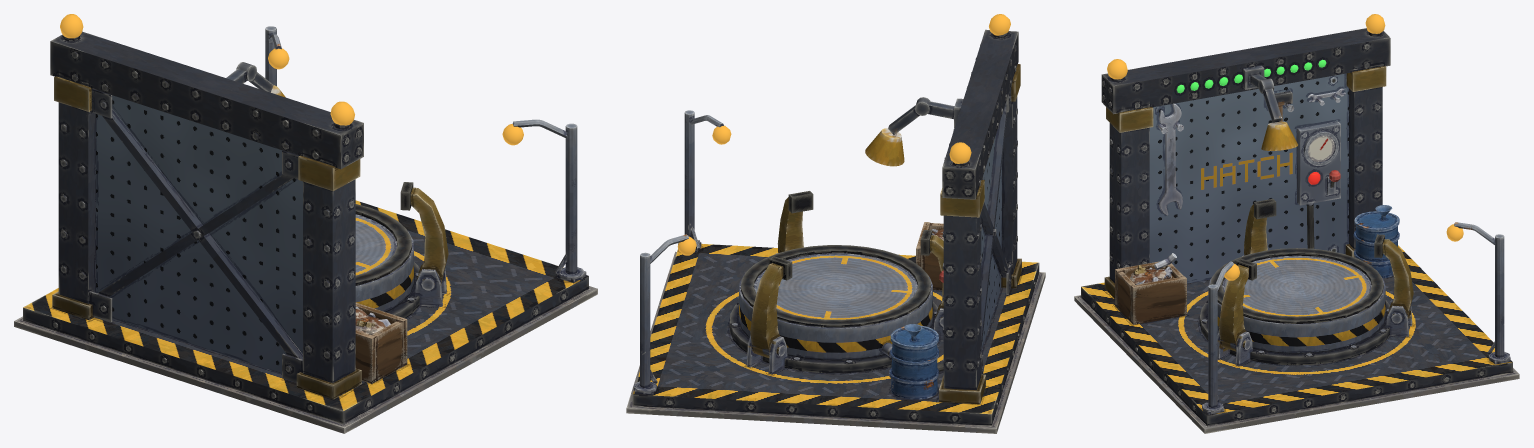
3 renders of one model, left to right at view 1: azimuth 30°, elevation 25°; view 2: azimuth 150°, elevation 25°; view 3: azimuth 270°, elevation 25°, orthographic. The views are drawn at different scales.
Parts seen in each view (by area): view 1: Frame, Board, Deck, Cradle, Bands, Posts, Crate, Clamp2, BackLamps, Arm, PostLamps; view 2: Deck, Frame, Cradle, Posts, Drum, Clamp3, Bands, Arm, Board, Clamp2, Crate, BackLamps (+3 smaller); view 3: Deck, Board, Frame, Cradle, Panel, Posts, Crate, Clamp2, Tools, Drum, Bands, Clamp3 (+3 smaller).
Part boxes in pixels (box(x1,y1,x2,y2)): Frame: box(50, 31, 363, 383); Board: box(96, 95, 302, 373); Deck: box(14, 200, 597, 433); Cradle: box(355, 204, 419, 318); Bands: box(52, 76, 361, 399); Posts: box(265, 26, 586, 282); Crate: box(355, 302, 407, 383); Clamp2: box(410, 187, 448, 306); BackLamps: box(60, 14, 354, 125); Arm: box(226, 62, 285, 97); PostLamps: box(268, 48, 523, 145); Deck: box(626, 243, 1045, 433); Frame: box(942, 29, 1018, 390); Cradle: box(729, 245, 938, 373); Posts: box(633, 110, 723, 394); Drum: box(889, 324, 938, 399); Clamp3: box(747, 263, 787, 374); Bands: box(939, 64, 1021, 404); Arm: box(865, 97, 963, 166); Board: box(981, 134, 1001, 350); Clamp2: box(776, 197, 803, 253); Crate: box(916, 222, 943, 290); BackLamps: box(949, 14, 1010, 163); Deck: box(1074, 245, 1519, 433); Board: box(1149, 73, 1348, 283); Frame: box(1101, 28, 1390, 283); Cradle: box(1199, 248, 1390, 365); Panel: box(1297, 121, 1340, 248); Posts: box(1202, 222, 1510, 414); Crate: box(1115, 261, 1186, 324); Clamp2: box(1217, 264, 1252, 366); Tools: box(1158, 88, 1345, 215); Drum: box(1353, 205, 1399, 278); Bands: box(1104, 66, 1386, 298); Clamp3: box(1382, 239, 1413, 336).
Size of the model in its own units: 13.07 by 8.11 by 13.07.
22 materials, 22 textured.
